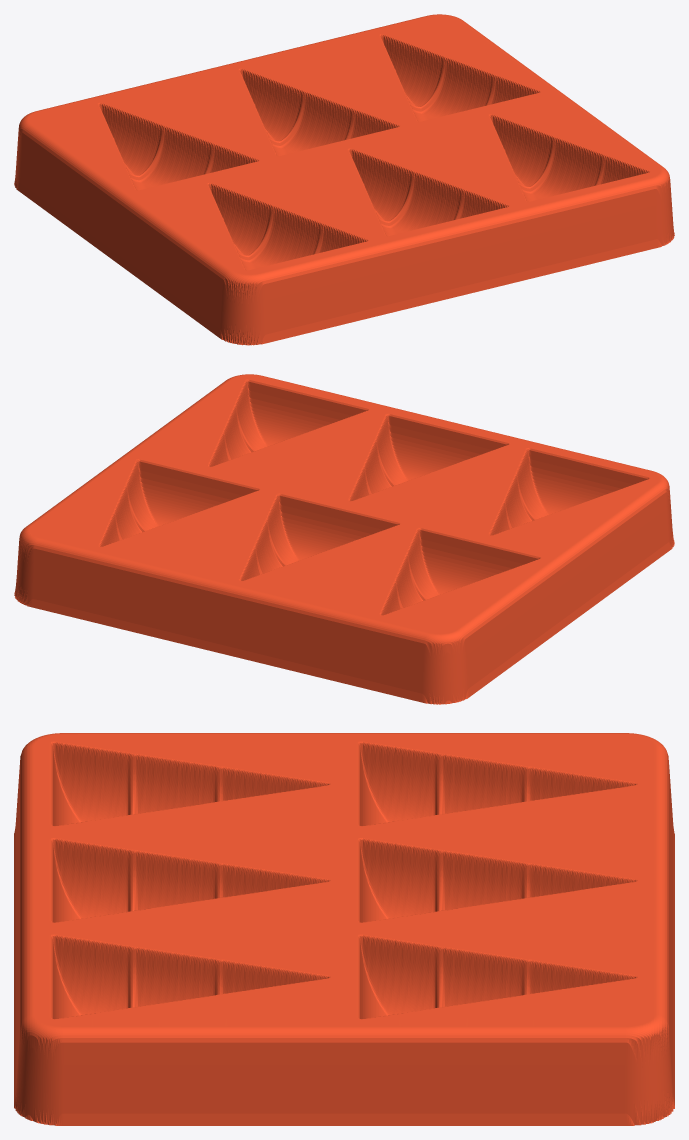
Rendered from mold.glb.
3 renders of one model, top to bottom at view 1: azimuth 30°, elevation 25°; view 2: azimuth 150°, elevation 25°; view 3: azimuth 270°, elevation 25°, orthographic. The views are drawn at different scales.
Visible parts, largest first — view 1: geometry_0; view 2: geometry_0; view 3: geometry_0.
Boxes of the visible parts, box(x1,y1,x2,y2) form: geometry_0: box(14, 14, 674, 345); geometry_0: box(14, 374, 674, 704); geometry_0: box(14, 733, 674, 1125).
Size of the model in its own units: 0.1353 by 0.0185 by 0.1222.
